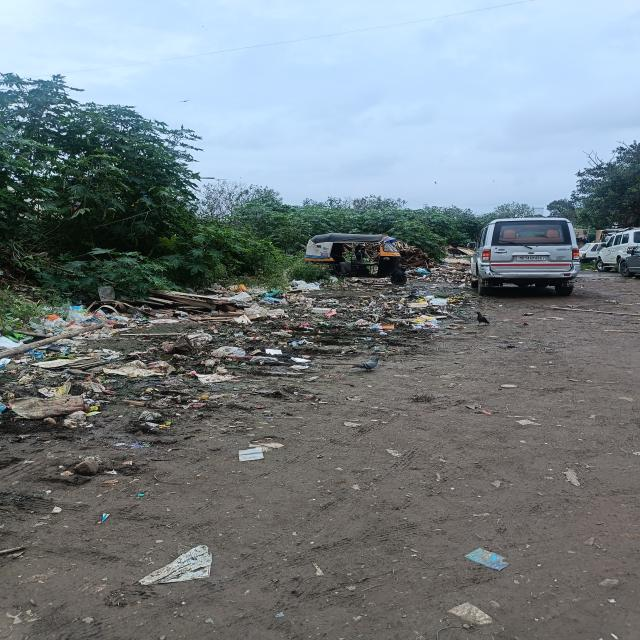garbage: (164, 280, 444, 361), (0, 288, 156, 430), (408, 267, 466, 282)
